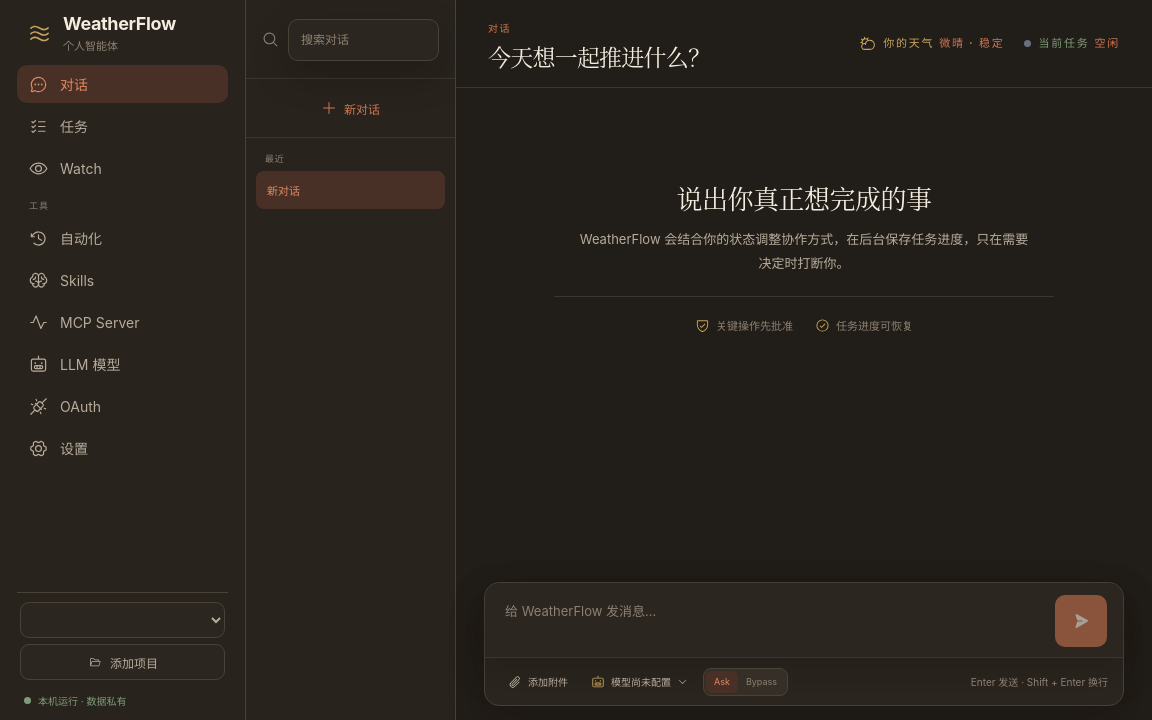
Test: persists an automatic title after the first message in a new session
The width and height of the screenshot is (1152, 720).
Check: the button with aria-label "打开会话：新对话" is shown, box [256,171,417,209]
In the text box named "对话输入": (774, 621) [505,599,1043,643], type "帮我复盘这周项目"
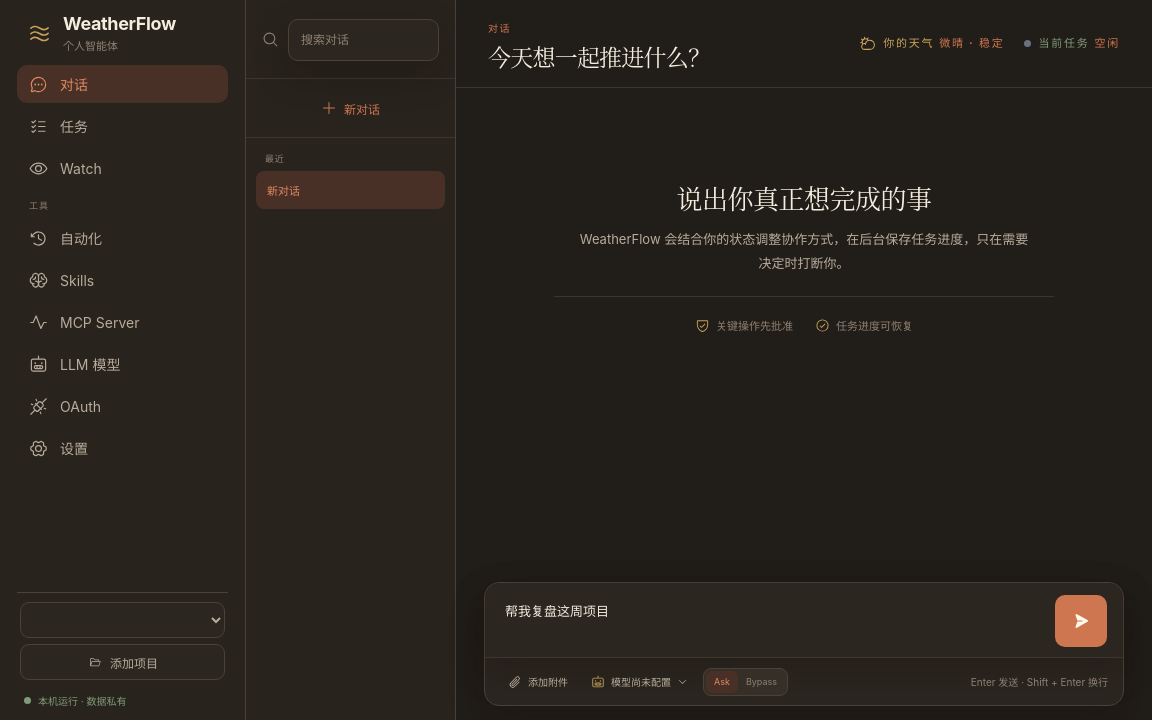
Click the button named "发送": (1081, 621) [1055,595,1107,647]
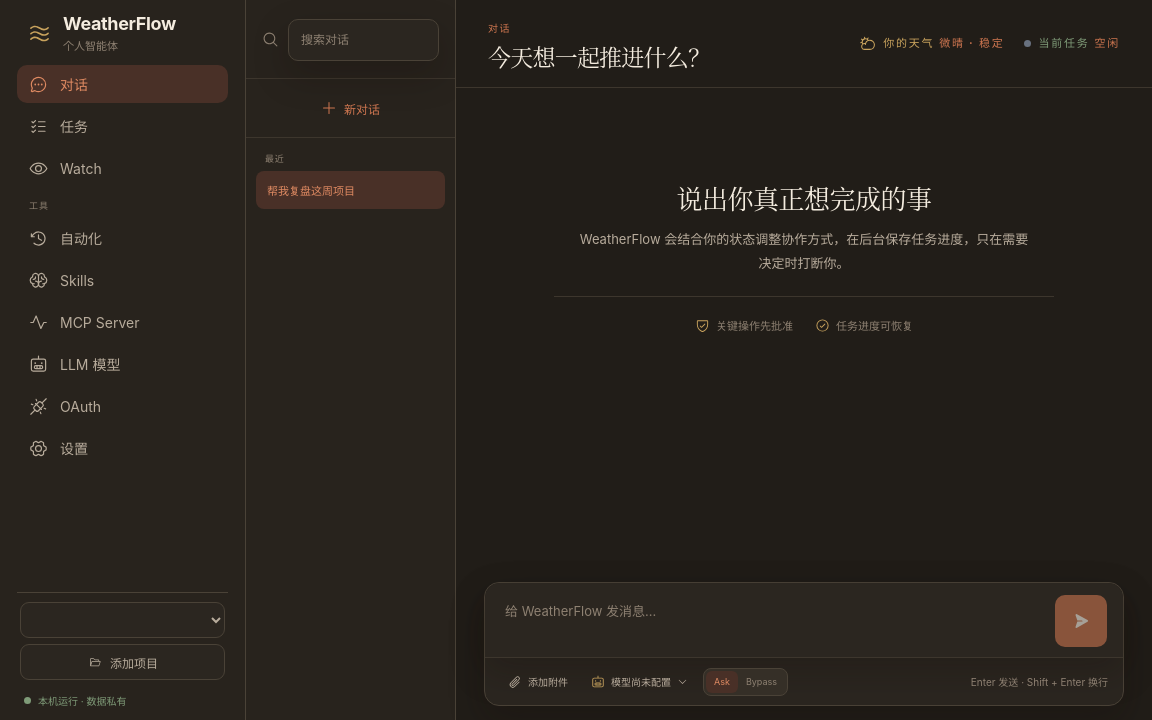
Check: the button with aria-label "打开会话：帮我复盘这周项目" is shown, box [256,171,417,209]
